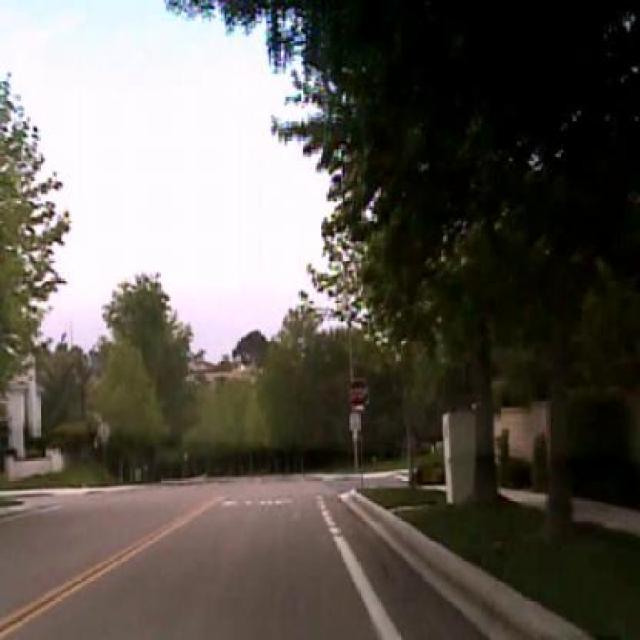stop: (346, 378, 367, 407)
